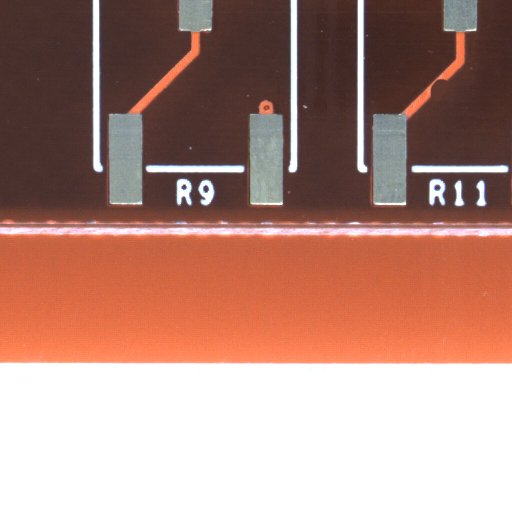Mouse_bite: (439, 88, 466, 117)
